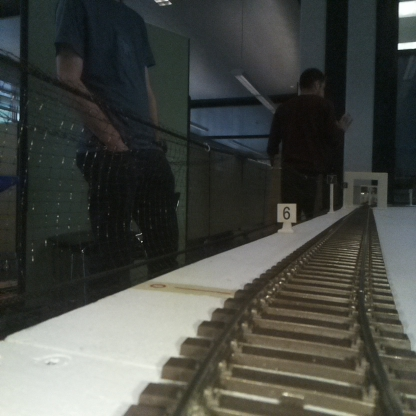white-stop-6: (277, 203, 296, 231)
